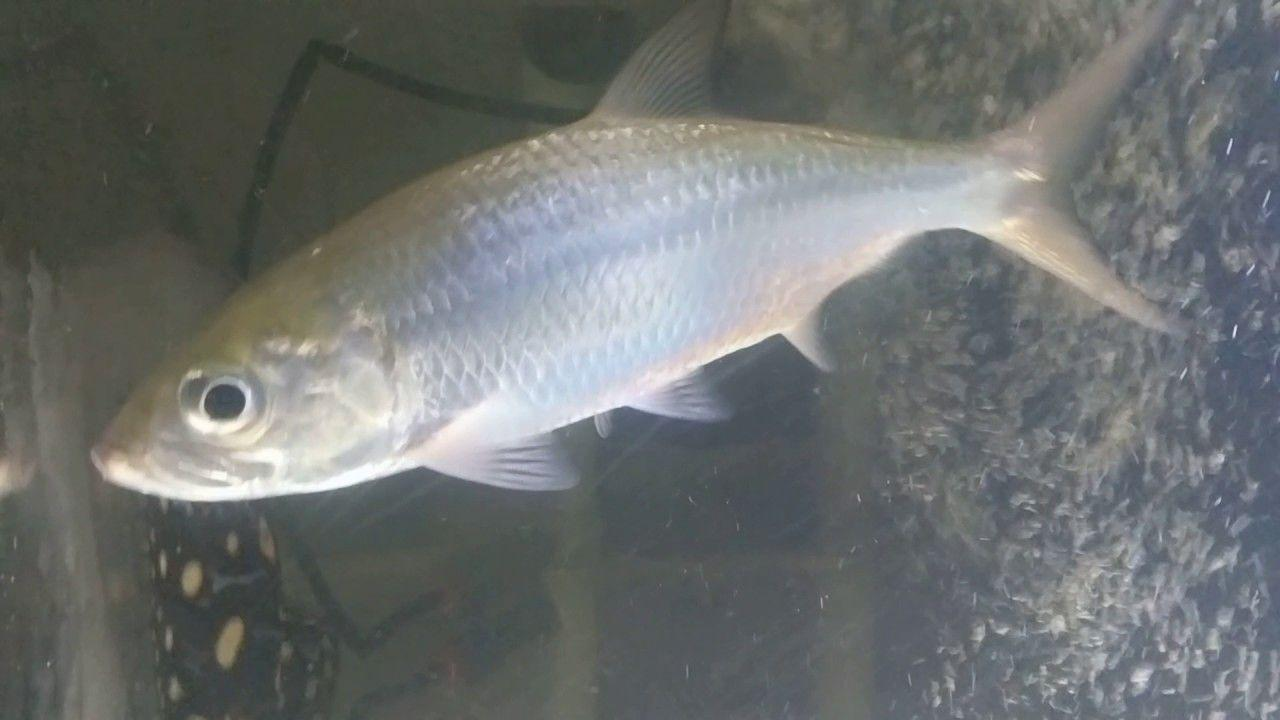Indo-Pacific Tarpon: (91, 0, 1186, 514)
